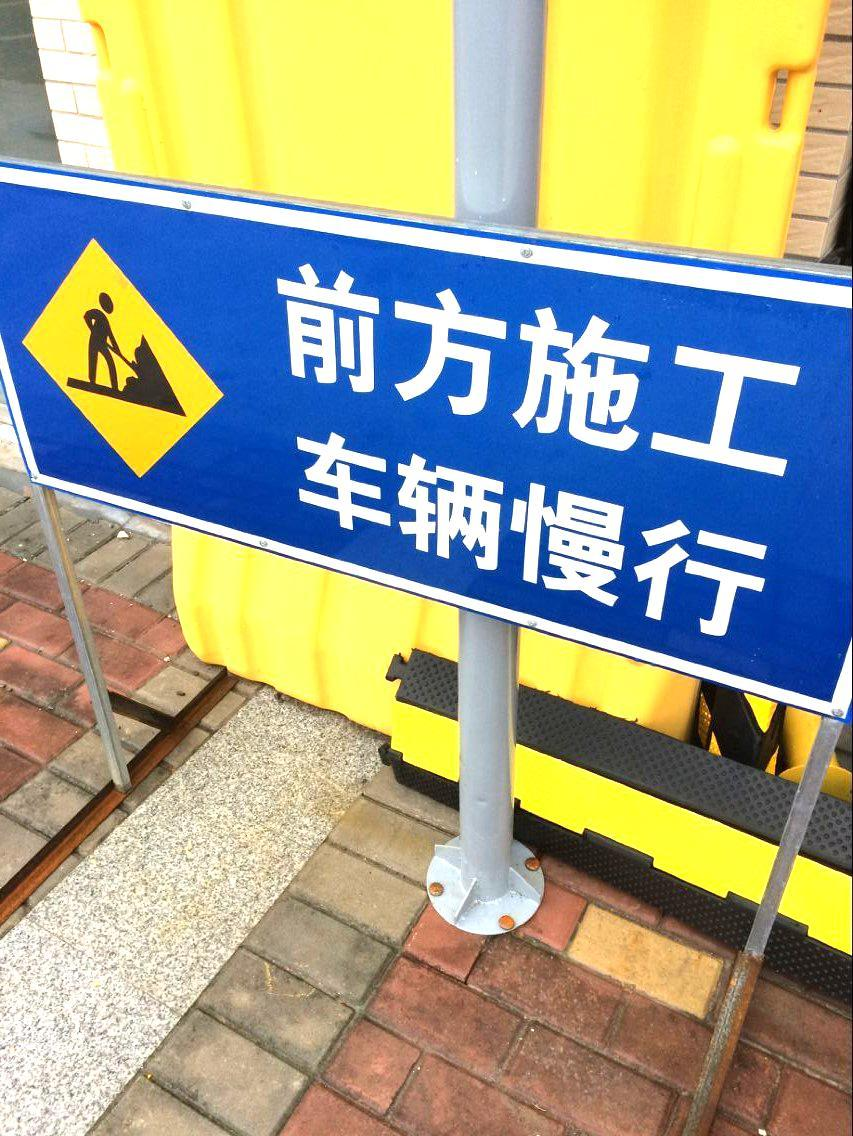sign: (4, 160, 851, 721)
